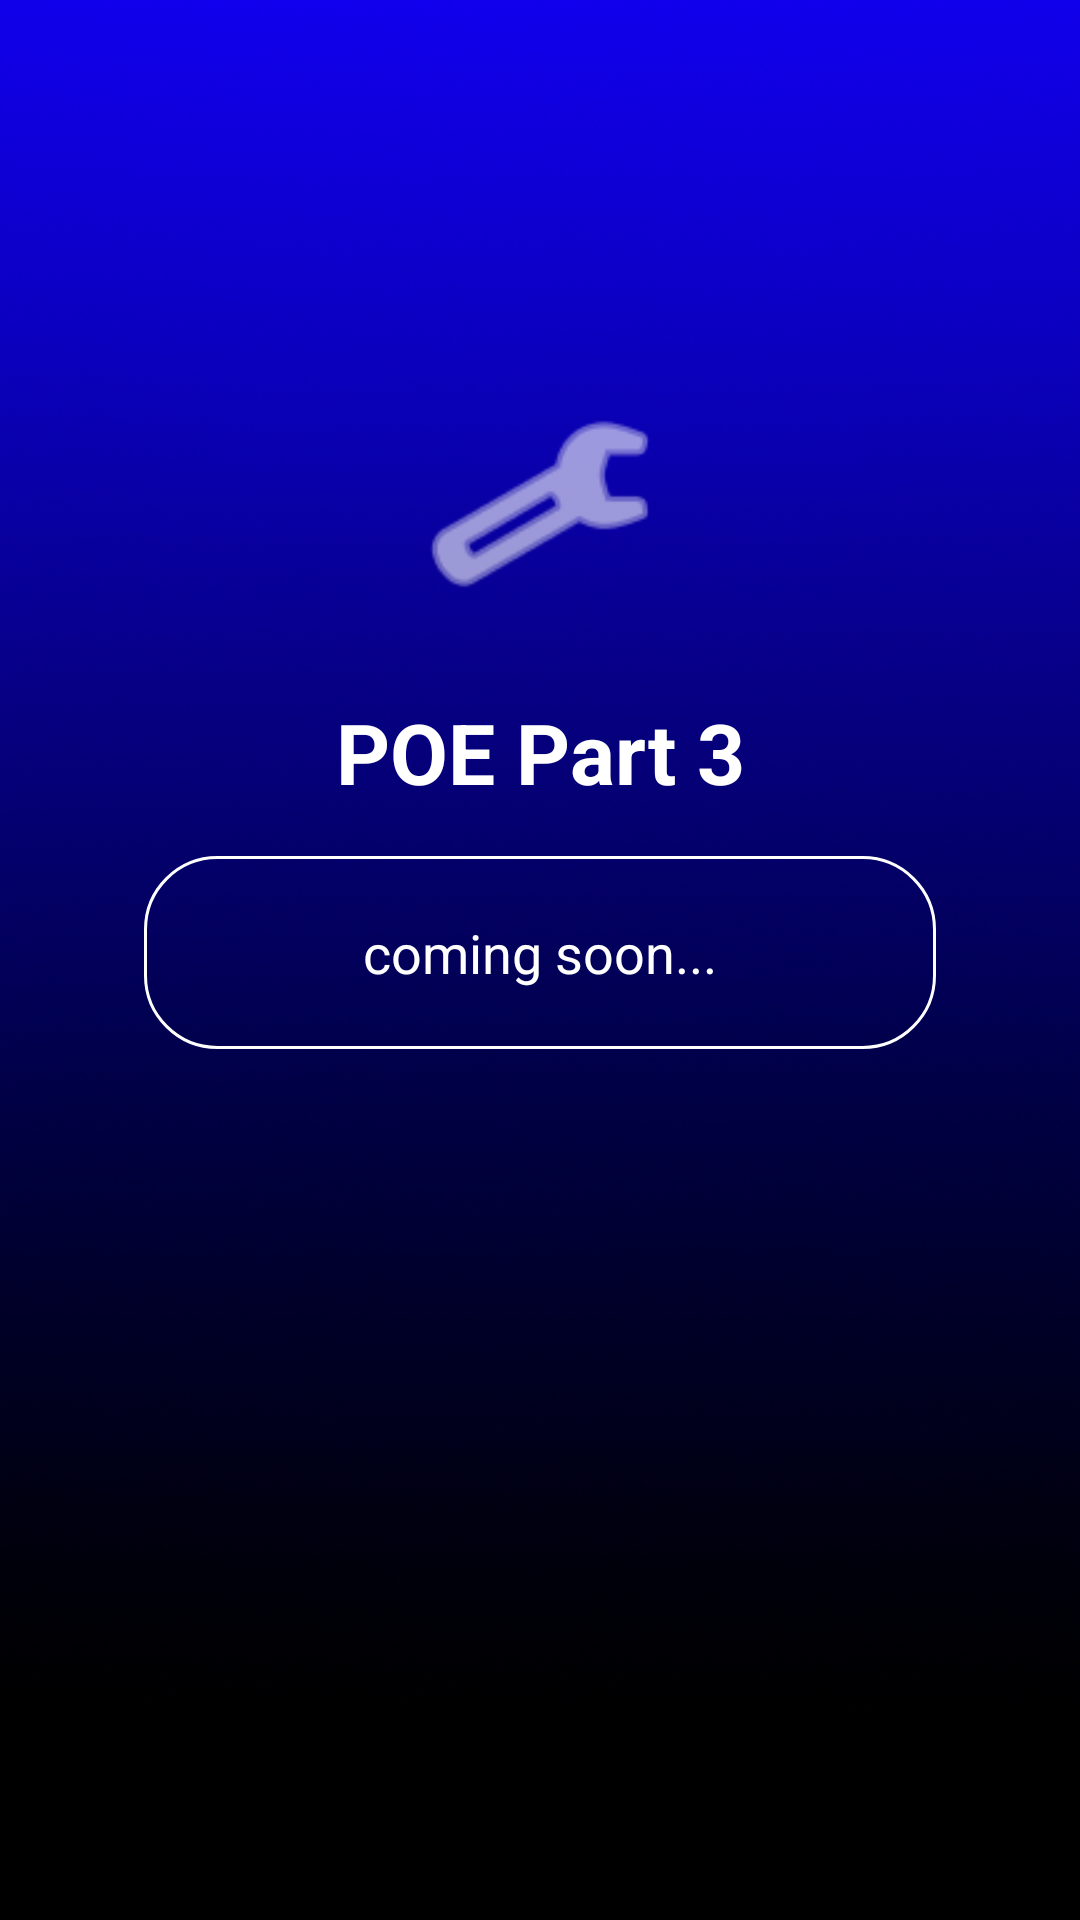

Screen size 1080*1920. Icon name, then its center in pixels as (x,y):
manage: (540,504)
